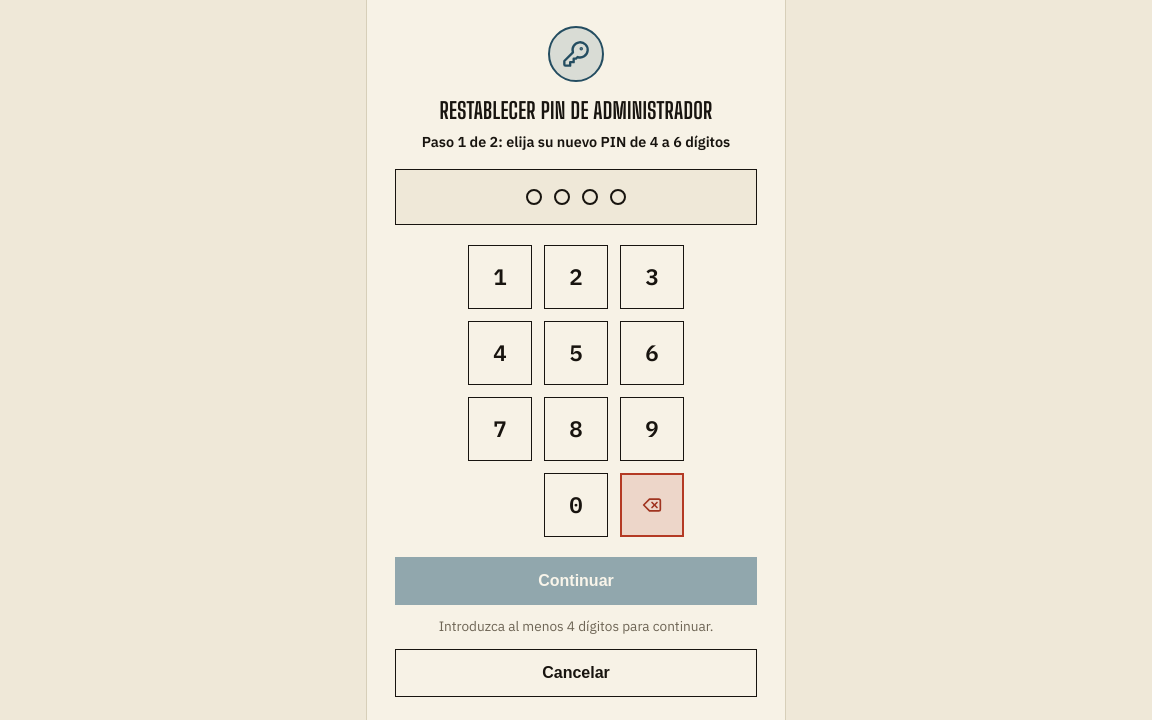
Test: TK-180-FE: ResetPinModal deja claro el paso de confirmación › Escenario 1: anuncia el paso 1 y, tras «Continuar», que hay que repetir el PIN
This screenshot has width=1152, height=720.
Expected: the message shows "Paso 1 de 2: elija su nuevo PIN", [422,132,730,151]
What coordinates should you click on to do the following:
click the button "2"
I would click on:
 (576, 277)
Its box is [544,245,608,309].
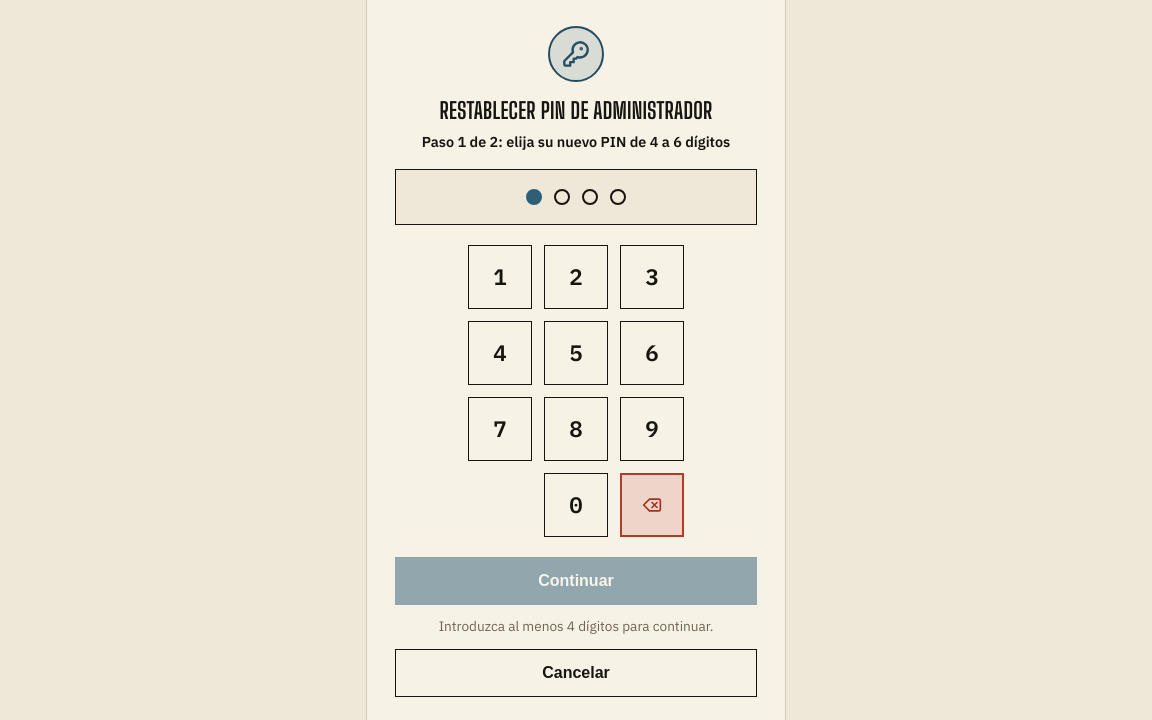
What coordinates should you click on to do the following:
click the button "4"
I would click on:
 (500, 353)
Its box is [468,321,532,385].
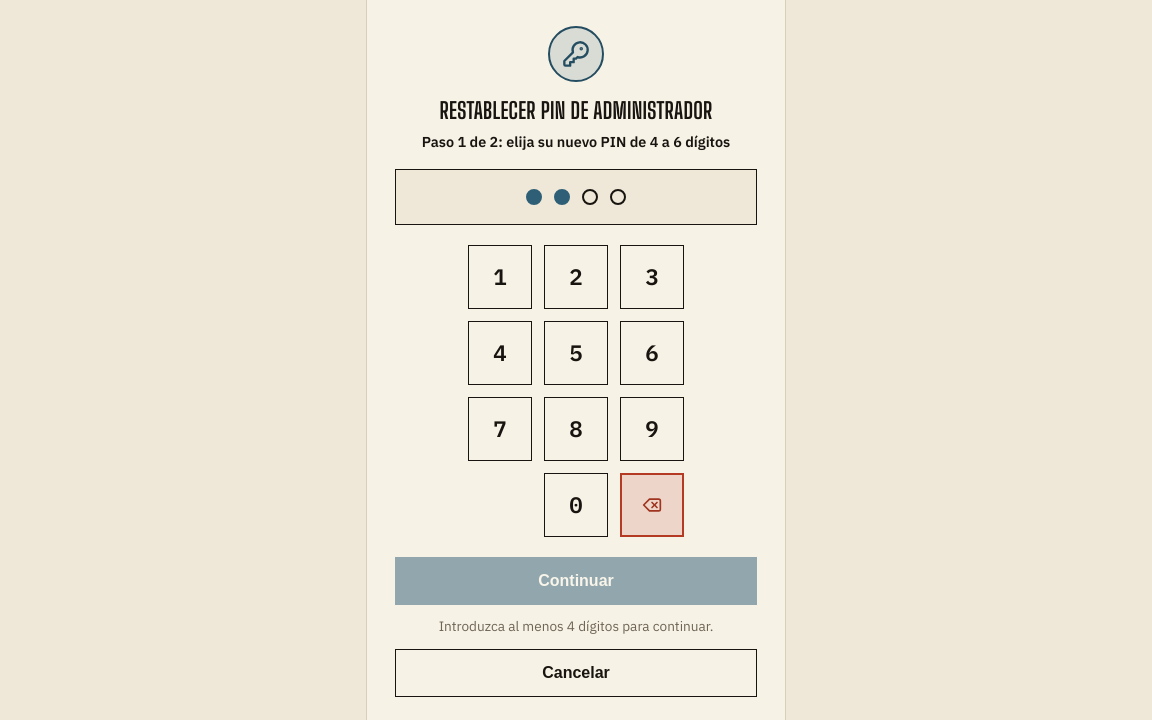
What coordinates should you click on to do the following:
click the button "6"
I would click on:
 (652, 353)
Its box is [620,321,684,385].
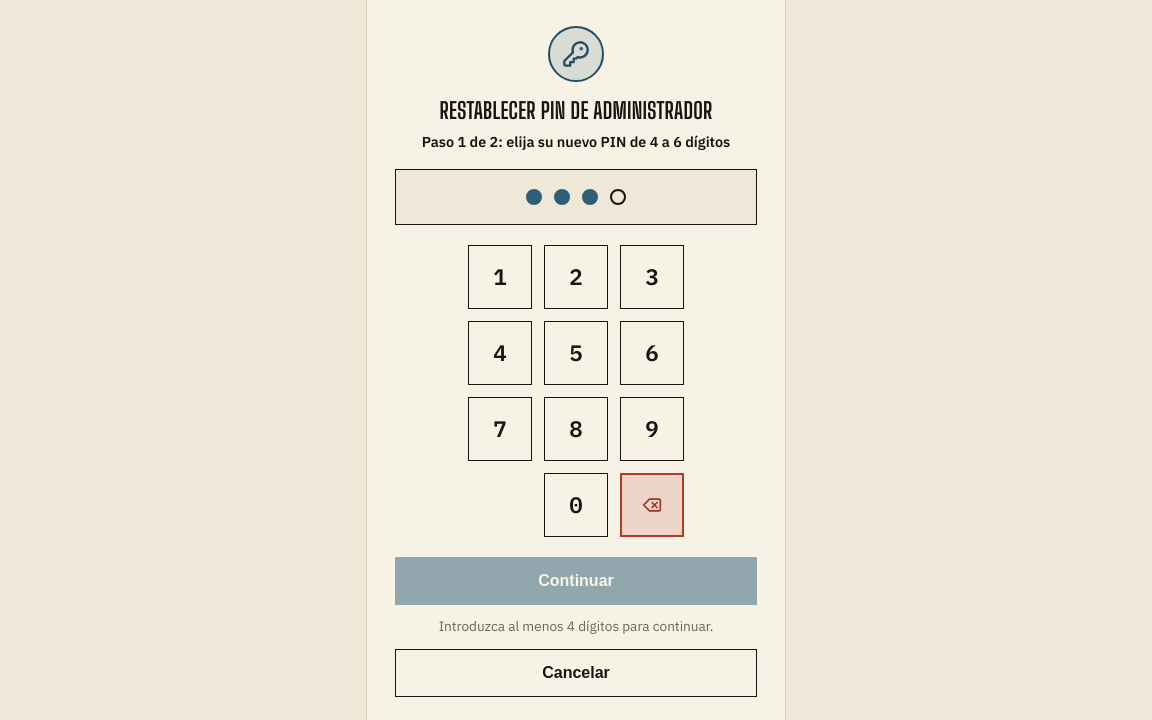
What coordinates should you click on to do the following:
click the button "8"
I would click on:
 (576, 429)
Its box is [544,397,608,461].
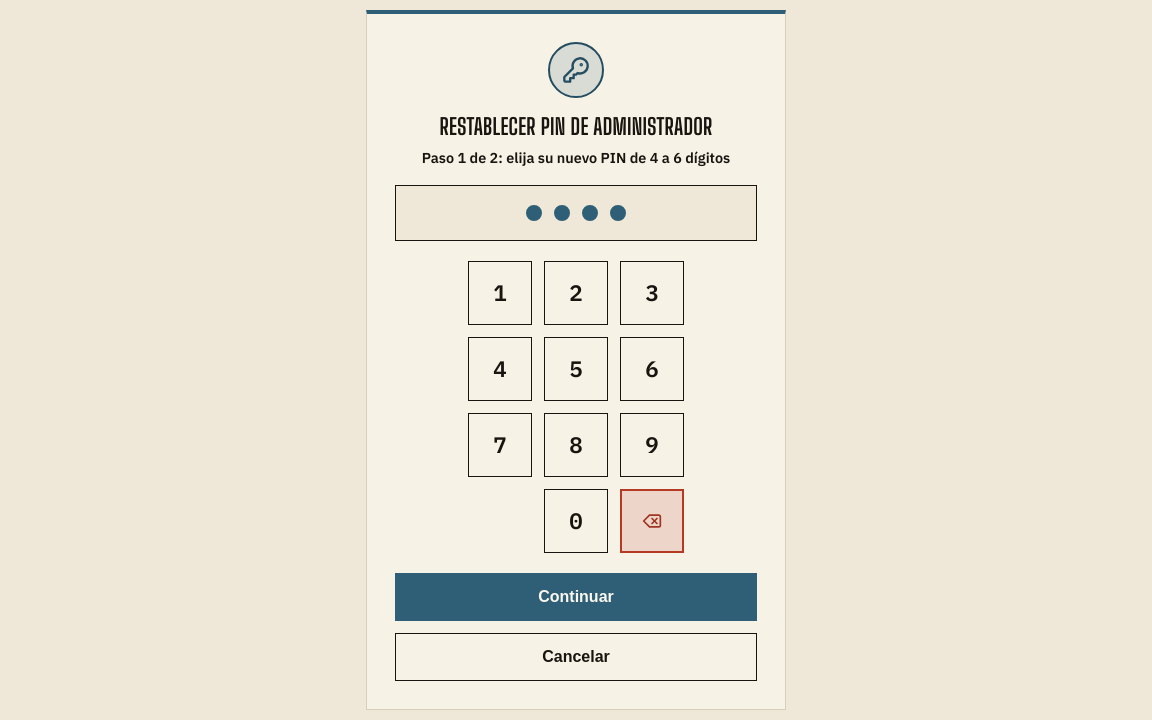
What coordinates should you click on to do the following:
click the button "Continuar"
I would click on:
 (576, 597)
Its box is [395,573,757,621].
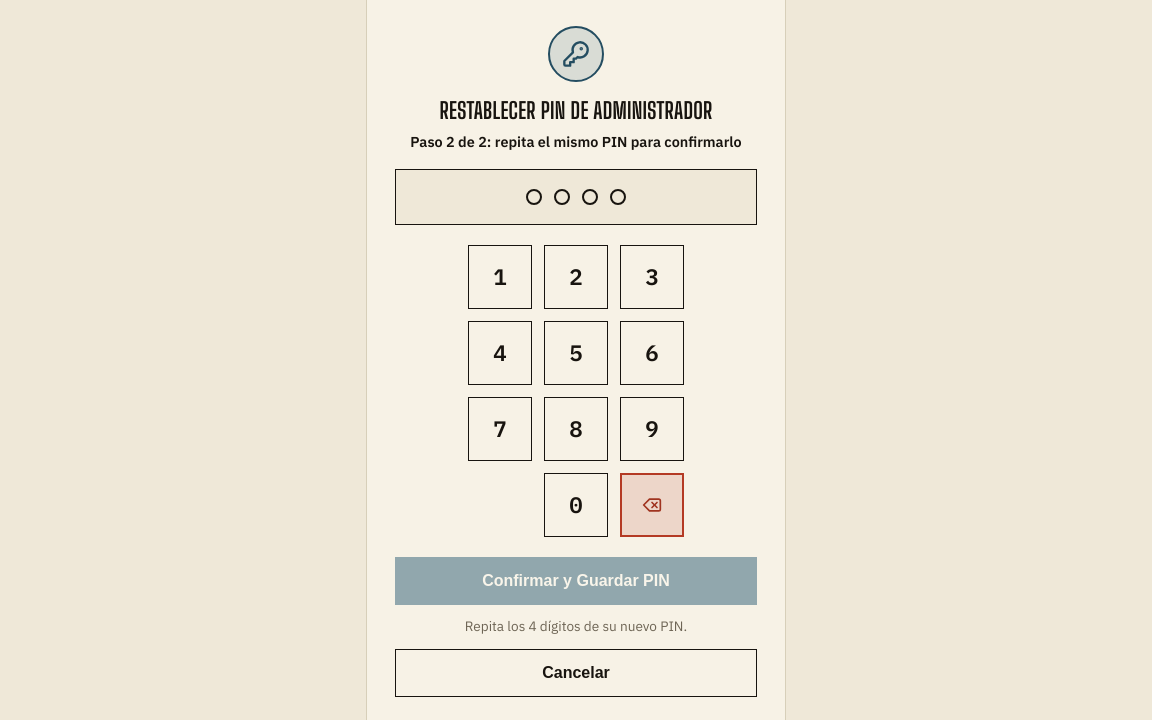
Result: the message reads "Paso 2 de 2: repita el mismo PIN para confirmarlo" at [410,132,742,151]
